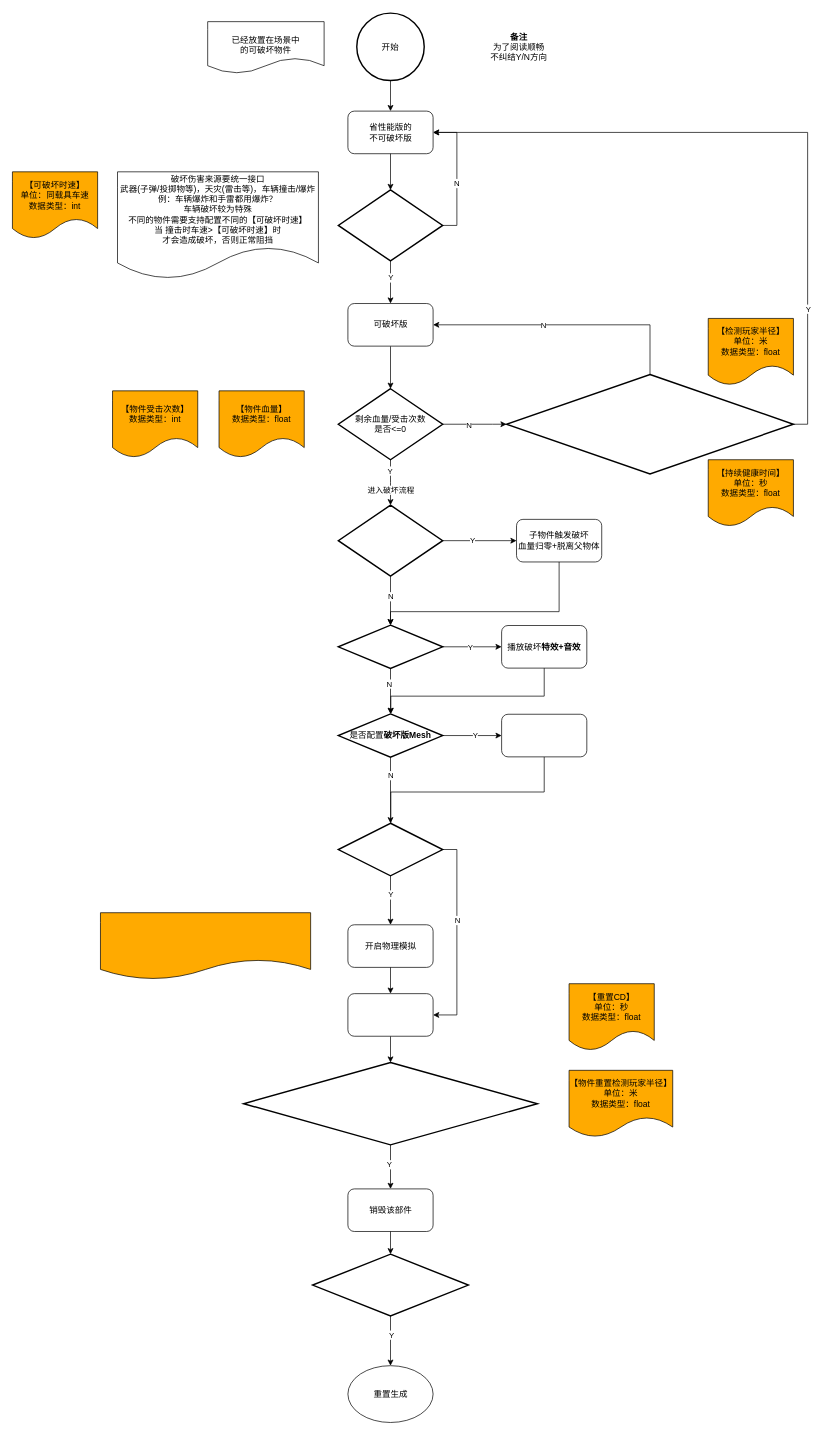
The diagram is 826 pixels wide and 1435 high, and some of its shapes have lost their labels. Each missing label, with the box of its shape:
【重置CD】 进入倒计时: (347, 993, 433, 1036)
圆形半径【检测玩家半径】米 范围内没有玩家存在 || 连续【持续健康时间】秒 没有受到任何伤害: (506, 373, 794, 474)
圆形半径【物件重置检测玩家半径】米 范围内没有玩家存在 || 【重置CD】<=0时: (243, 1061, 538, 1145)
开启物理模拟可以直接使用相关参数控制物理效果 质量、摩擦力、弹性、线性阻尼和角度阻尼等 也需要针对每个可破坏物件进行配置: (100, 912, 311, 979)
是否受到破坏伤害: (337, 189, 443, 261)
是否配置了 特效+音效: (337, 624, 443, 669)
是否配置了 破坏后开启物理模拟: (337, 822, 443, 876)
瞬切 破坏版Mesh: (501, 714, 587, 757)
被破坏物件 是否有子物件: (337, 504, 443, 577)
该物件出生点上是否 有空间重置生成本体: (312, 1253, 469, 1316)
